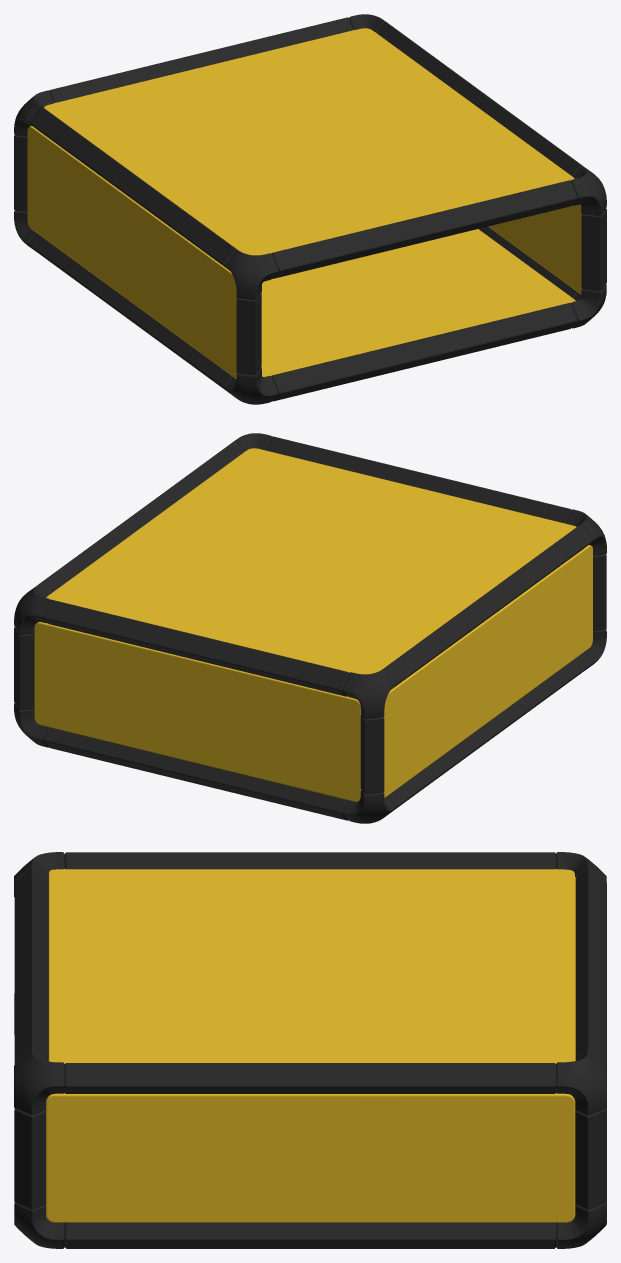
The picture shows the model from 3 angles, top to bottom: view 1: azimuth 30°, elevation 25°; view 2: azimuth 150°, elevation 25°; view 3: azimuth 270°, elevation 25°; orthographic projection. The views are drawn at different scales.
Visible parts, largest first — view 1: 329x374x79; view 2: 329x374x79; view 3: 329x374x79.
Boxes of the visible parts, x1,y1,x2,y2 form: 329x374x79: (14,14,606,404); 329x374x79: (14,433,606,823); 329x374x79: (14,852,606,1248).
Size of the model in its own units: 0.4067 by 0.1566 by 0.4513.
